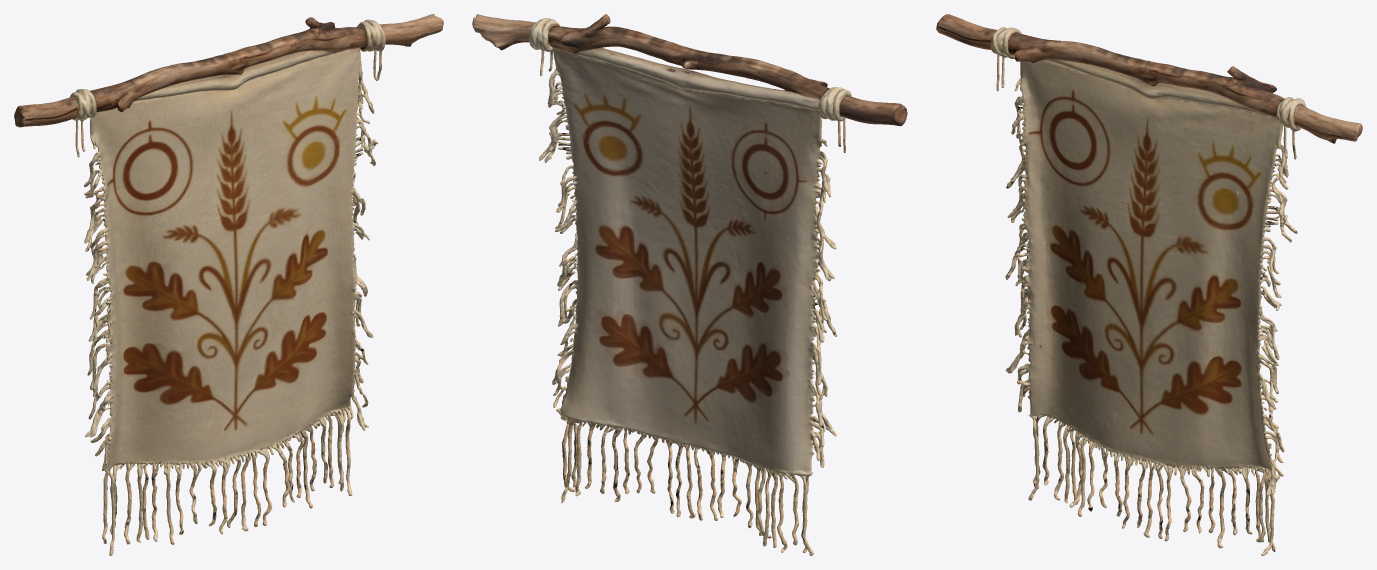
Rendered from RusticTapestry.glb.
The picture shows the model from 3 angles, left to right: view 1: azimuth 30°, elevation 25°; view 2: azimuth 150°, elevation 25°; view 3: azimuth 330°, elevation 25°; orthographic projection. The views are drawn at different scales.
Size of the model in its own units: 1.73 by 1.9 by 0.1941.
1 material, 1 textured.
